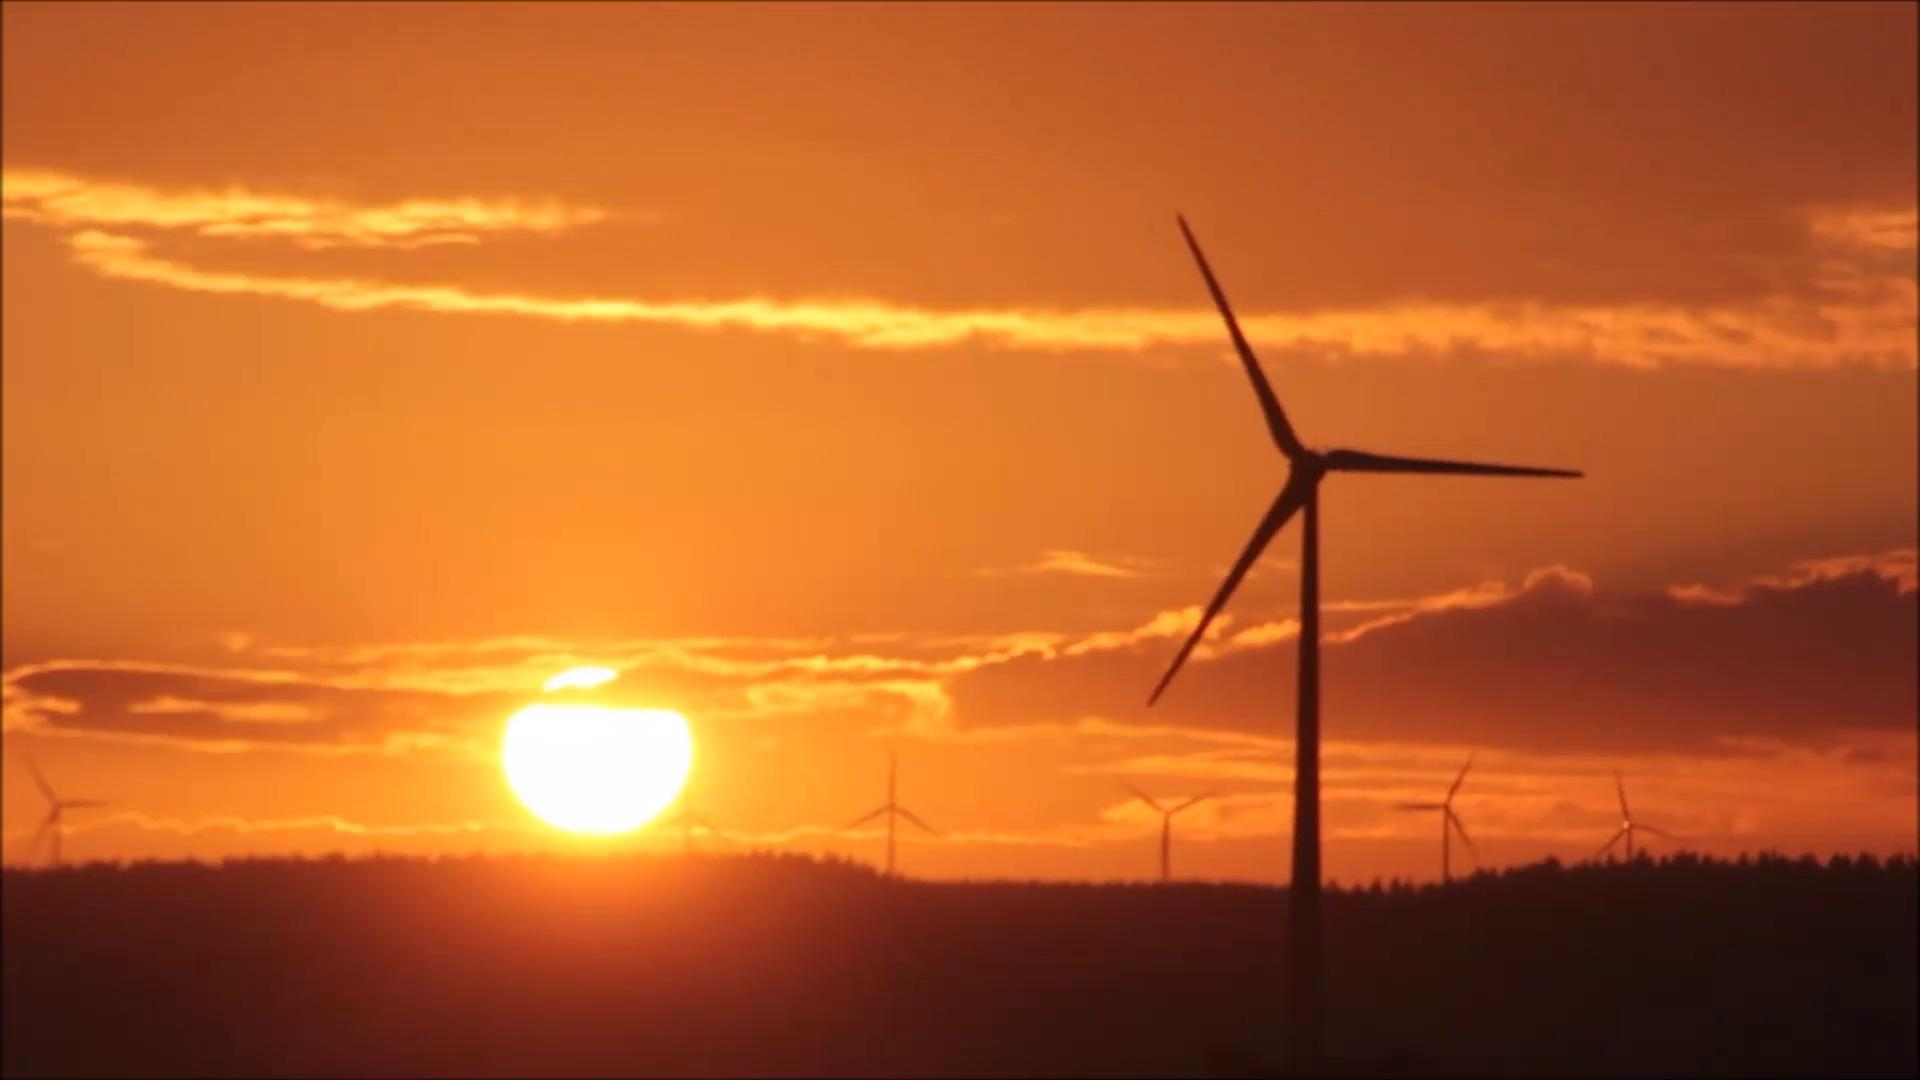turbine: (1038, 179, 1665, 1080), (0, 744, 181, 928), (1093, 769, 1267, 932), (1379, 770, 1534, 922), (829, 765, 965, 922), (1584, 778, 1709, 927), (647, 777, 746, 902)
